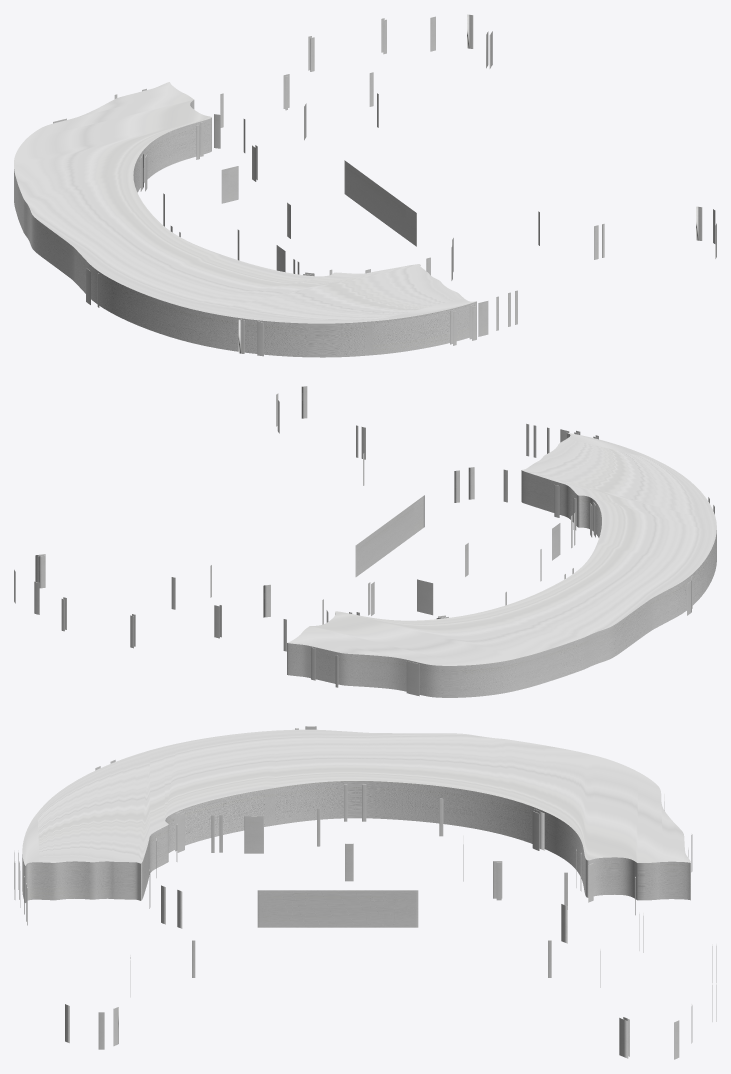
3 renders of one model, top to bottom at view 1: azimuth 30°, elevation 25°; view 2: azimuth 150°, elevation 25°; view 3: azimuth 270°, elevation 25°, orthographic. The views are drawn at different scales.
Bounding box in the file's own units: 0.033 × 0.00194 × 0.0331.
1 material, 1 textured.
